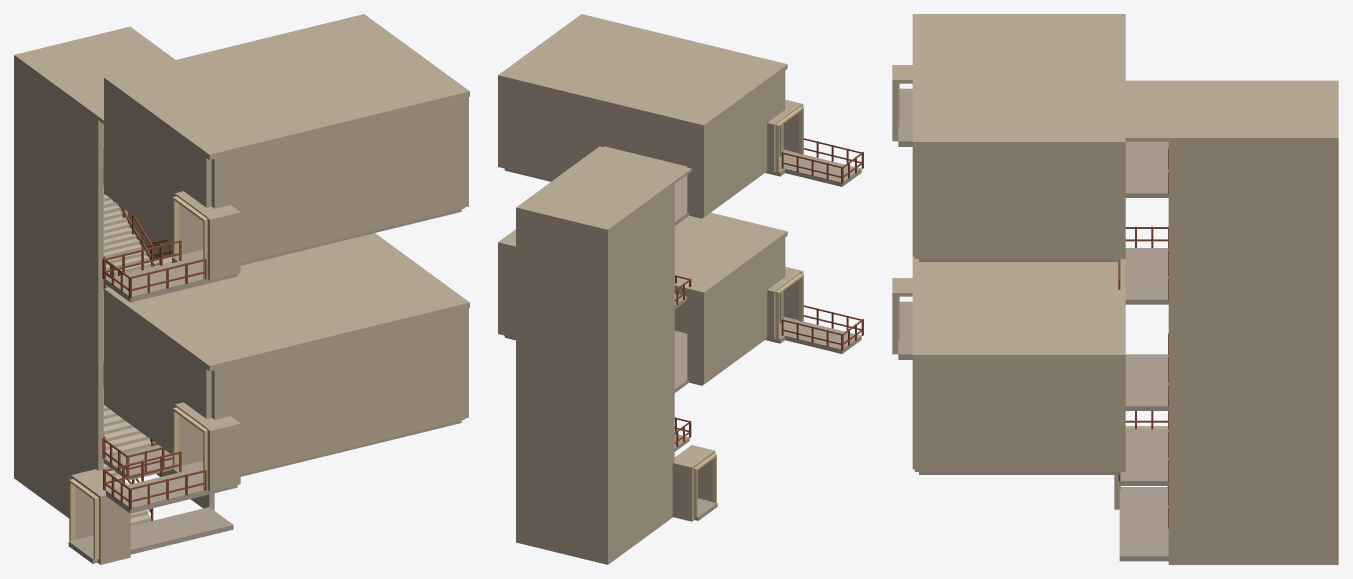
Rendered from upper.glb.
3 views of the same model, side by side, from view 1: azimuth 30°, elevation 25°; view 2: azimuth 150°, elevation 25°; view 3: azimuth 270°, elevation 25° (orthographic). The views are drawn at different scales.
Parts seen in each view (by area): view 1: stair-west-shell, b-ceiling, a-north-wall, b-north-wall, a-ceiling, a-west-wall, b-west-wall, stair-top-ceiling, slab-landing-0, a-view-floor, b-view-floor, a-view-north-wall (+16 smaller); view 2: stair-back-shell, stair-west-shell, b-ceiling, b-south-east-wall, stair-top-ceiling, b-west-wall, a-west-wall, a-ceiling, b-south-lintel, b-south-west-pier, a-south-west-pier, stair-east-shell (+16 smaller); view 3: stair-east-shell, b-ceiling, b-east-wall, a-east-wall, a-ceiling, stair-top-ceiling, stair-back-shell, slab-landing-0, slab-landing-2, slab-landing-8, slab-landing-6, slab-landing-4 (+8 smaller).
Boxes of the visible parts, left/top/right/bottom form: stair-west-shell: left=14, top=55, right=103, bottom=518; b-ceiling: left=104, top=17, right=469, bottom=160; a-north-wall: left=211, top=301, right=464, bottom=474; b-north-wall: left=211, top=92, right=464, bottom=262; a-ceiling: left=104, top=234, right=469, bottom=371; a-west-wall: left=107, top=289, right=191, bottom=464; b-west-wall: left=107, top=79, right=191, bottom=253; stair-top-ceiling: left=14, top=26, right=175, bottom=123; slab-landing-0: left=130, top=507, right=233, bottom=554; a-view-floor: left=106, top=468, right=221, bottom=513; b-view-floor: left=106, top=257, right=221, bottom=302; a-view-north-wall: left=207, top=424, right=240, bottom=491; stair-back-shell: left=517, top=206, right=609, bottom=563; stair-west-shell: left=603, top=181, right=674, bottom=564; b-ceiling: left=502, top=14, right=787, bottom=129; b-south-east-wall: left=499, top=73, right=605, bottom=180; stair-top-ceiling: left=516, top=146, right=691, bottom=231; b-west-wall: left=703, top=77, right=769, bottom=214; a-west-wall: left=706, top=245, right=769, bottom=381; a-ceiling: left=505, top=213, right=787, bottom=296; b-south-lintel: left=604, top=99, right=689, bottom=166; b-south-west-pier: left=687, top=119, right=706, bottom=216; a-south-west-pier: left=687, top=288, right=706, bottom=384; stair-east-shell: left=516, top=183, right=551, bottom=543; stair-east-shell: left=1168, top=136, right=1338, bottom=564; b-ceiling: left=912, top=14, right=1125, bottom=147; b-east-wall: left=914, top=139, right=1125, bottom=258; a-east-wall: left=914, top=352, right=1125, bottom=471; a-ceiling: left=912, top=257, right=1125, bottom=360; stair-top-ceiling: left=1125, top=80, right=1338, bottom=141; stair-back-shell: left=1332, top=135, right=1338, bottom=564; slab-landing-0: left=1119, top=504, right=1168, bottom=561; slab-landing-2: left=1119, top=429, right=1168, bottom=485; slab-landing-8: left=1125, top=141, right=1168, bottom=197; slab-landing-6: left=1125, top=248, right=1168, bottom=304; slab-landing-4: left=1125, top=354, right=1168, bottom=410.
Size of the model in its own units: 19.79 by 26.18 by 21.8.
